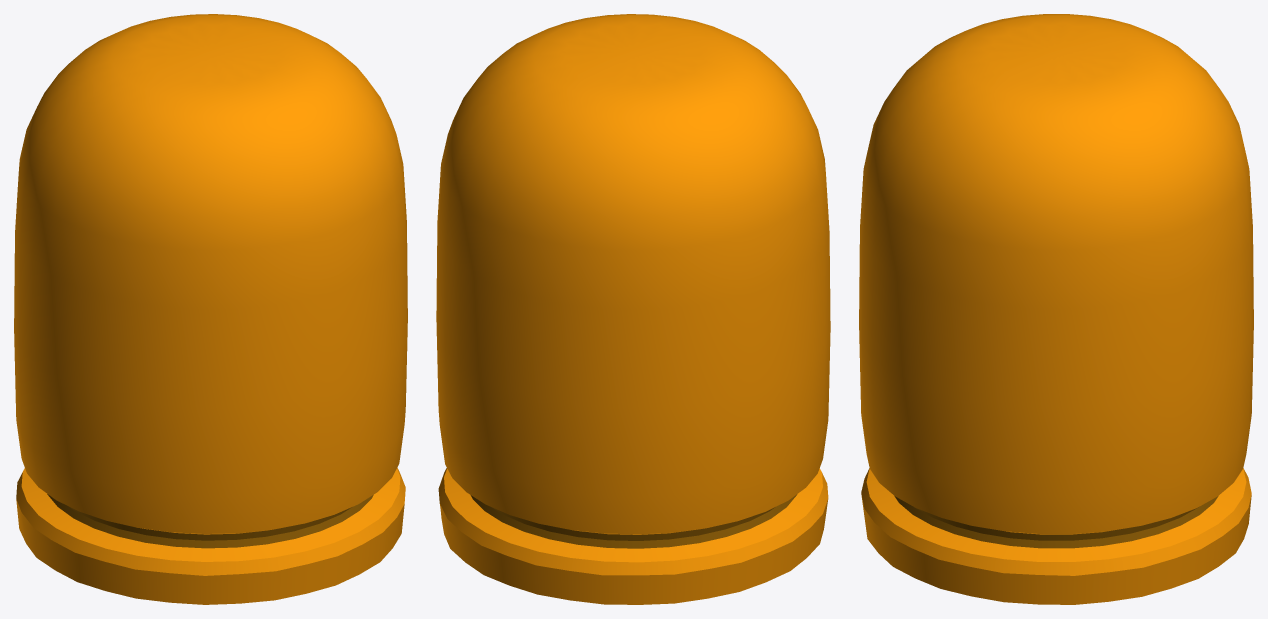
The model's file is Bullet.fbx.
3 renders of one model, left to right at view 1: azimuth 30°, elevation 25°; view 2: azimuth 150°, elevation 25°; view 3: azimuth 270°, elevation 25°, orthographic.
Visible parts, largest first — view 1: Bullet; view 2: Bullet; view 3: Bullet.
Boxes of the visible parts, box(x1,y1,x2,y2) form: Bullet: box(14, 14, 407, 604); Bullet: box(436, 14, 830, 604); Bullet: box(859, 14, 1253, 604).
Bounding box in the file's own units: 35.81 × 47.44 × 35.97.
